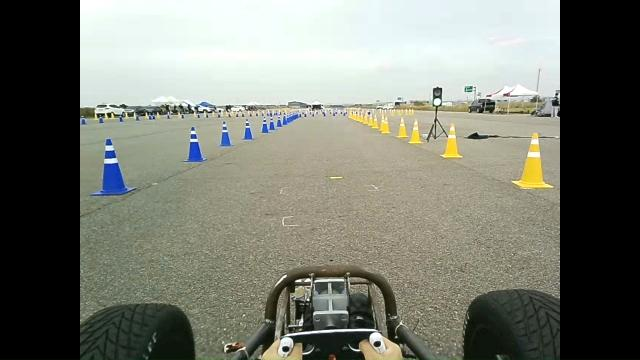blue cone: (90, 137, 136, 196), (182, 126, 206, 162), (217, 120, 233, 146), (241, 118, 254, 140), (260, 117, 268, 133), (268, 117, 276, 130), (275, 118, 282, 127), (282, 115, 288, 125)
yellow cone: (512, 132, 554, 189), (440, 122, 462, 158), (408, 118, 423, 144), (396, 116, 408, 138), (380, 115, 391, 134), (371, 115, 378, 129), (367, 114, 374, 126)
